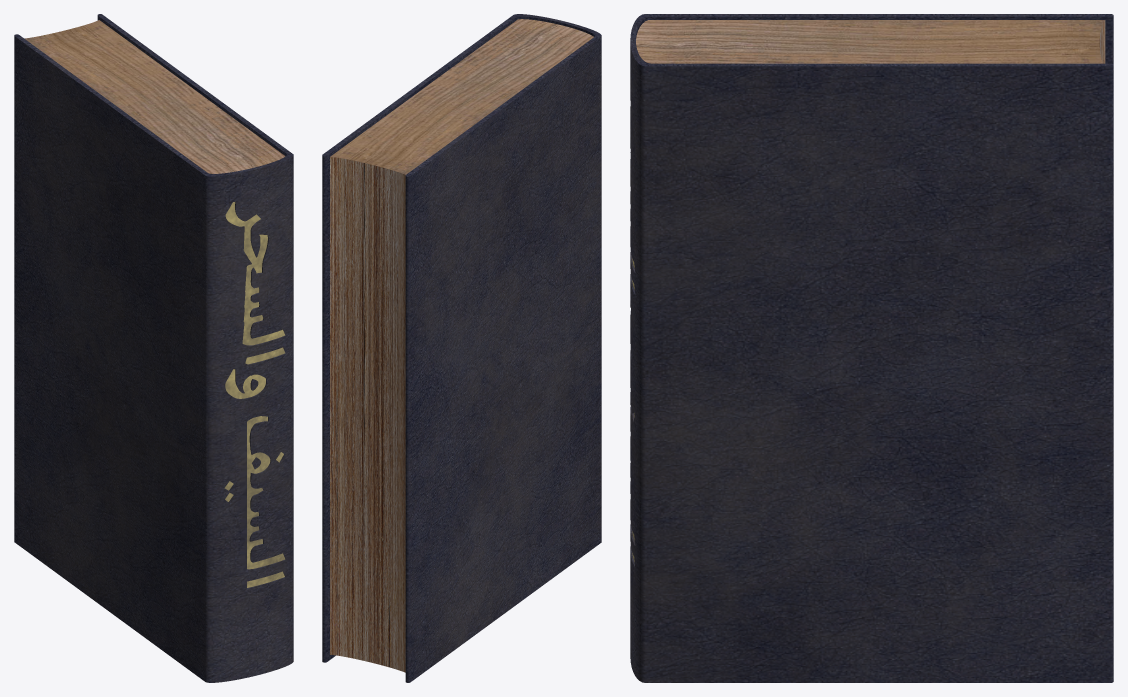
Rendered from Book.fbx.
3 views of the same model, side by side, from view 1: azimuth 30°, elevation 25°; view 2: azimuth 150°, elevation 25°; view 3: azimuth 270°, elevation 25° (orthographic). The views are drawn at different scales.
Parts seen in each view (by area): view 1: Book; view 2: Book; view 3: Book.
Part boxes in pixels (<box>): Book: <box>14,14,293,682</box>; Book: <box>322,14,601,682</box>; Book: <box>630,14,1113,682</box>.
Size of the model in its own units: 224 by 1231 by 874.
